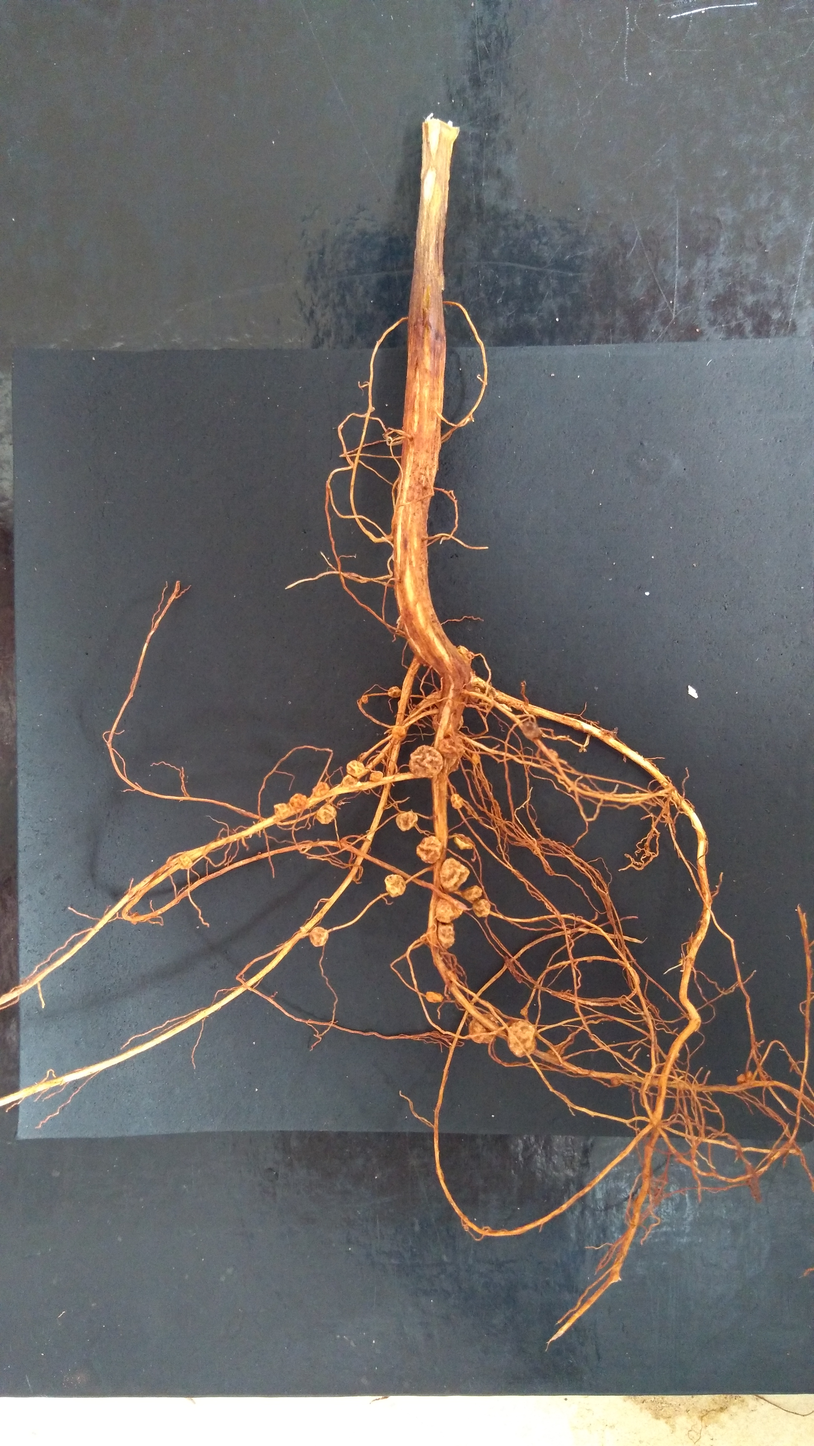nodule: (506, 1019, 537, 1057), (409, 744, 444, 777), (439, 857, 470, 892), (468, 1012, 499, 1044), (431, 711, 463, 735), (415, 835, 442, 863), (435, 897, 463, 923), (439, 735, 465, 760), (435, 920, 454, 949), (384, 873, 406, 898), (396, 810, 418, 832), (316, 804, 338, 825), (520, 720, 542, 740), (309, 926, 329, 947), (467, 683, 483, 705), (460, 885, 482, 901), (347, 760, 366, 778), (473, 898, 491, 917), (454, 833, 473, 850), (456, 645, 472, 665), (311, 781, 331, 797), (288, 793, 307, 809), (273, 802, 290, 819), (341, 774, 359, 789), (735, 1070, 753, 1085), (391, 725, 407, 741), (425, 991, 444, 1003), (177, 855, 193, 869), (450, 794, 463, 809), (387, 686, 402, 698), (369, 771, 383, 782), (448, 759, 459, 773), (609, 1076, 622, 1087), (546, 748, 558, 759), (471, 752, 481, 765), (130, 912, 140, 925), (519, 1007, 529, 1016), (361, 695, 368, 704), (467, 809, 472, 815)
